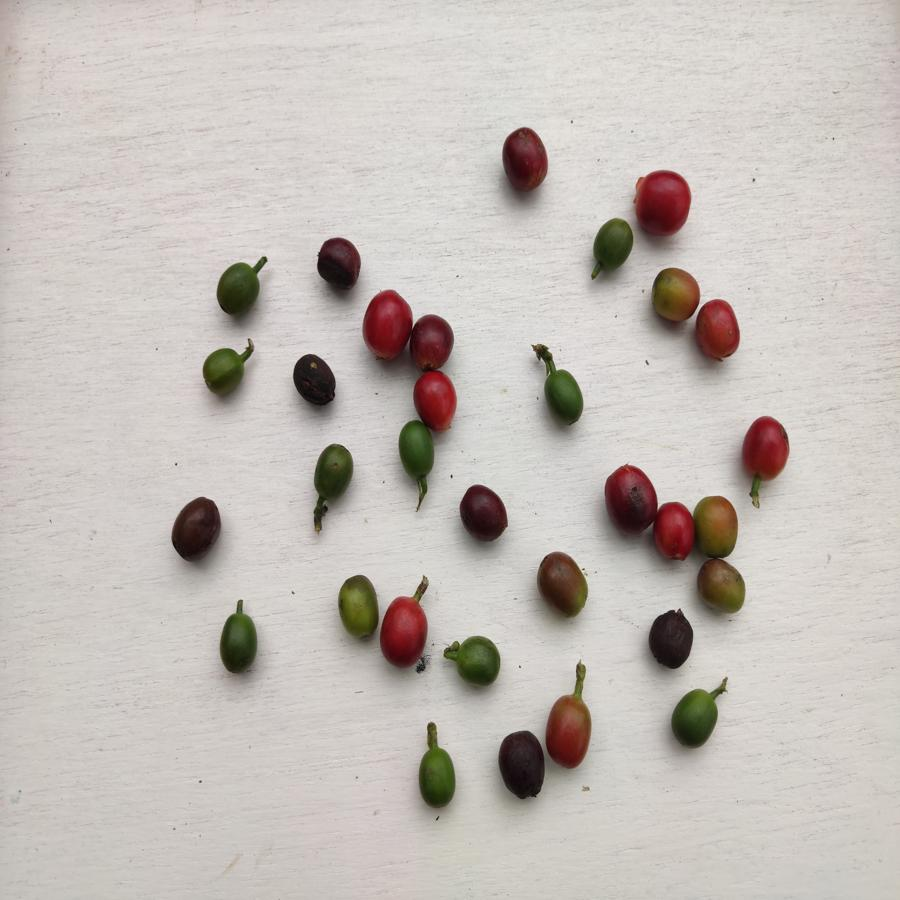Inmaduro: (671, 681, 720, 751), (455, 628, 505, 687), (211, 262, 264, 316), (213, 613, 260, 673), (543, 365, 586, 426), (416, 748, 458, 810), (314, 440, 355, 502), (590, 216, 634, 270), (201, 346, 247, 395), (398, 423, 438, 478)
Maduro: (630, 167, 694, 235), (362, 285, 414, 362), (544, 693, 595, 769), (740, 415, 791, 479), (381, 597, 428, 665), (410, 368, 462, 429), (698, 296, 741, 362), (654, 498, 696, 565)
Pinton: (537, 551, 589, 617), (694, 492, 740, 559), (337, 572, 380, 642), (697, 558, 750, 614), (652, 263, 699, 324)
Sobremaduro: (603, 462, 658, 538), (169, 497, 224, 566), (497, 727, 545, 801), (458, 481, 512, 545), (499, 125, 550, 190), (292, 352, 341, 408), (312, 236, 362, 289), (648, 608, 692, 668), (412, 313, 454, 367)
